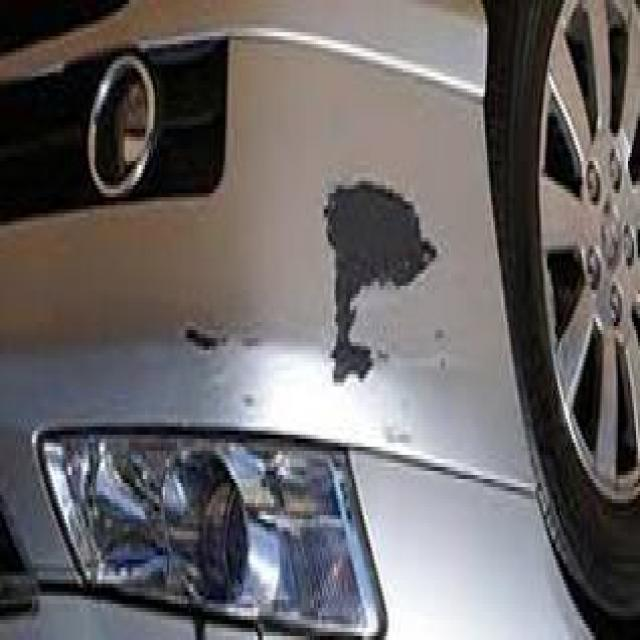scratch: (304, 173, 457, 391), (176, 316, 229, 364)
